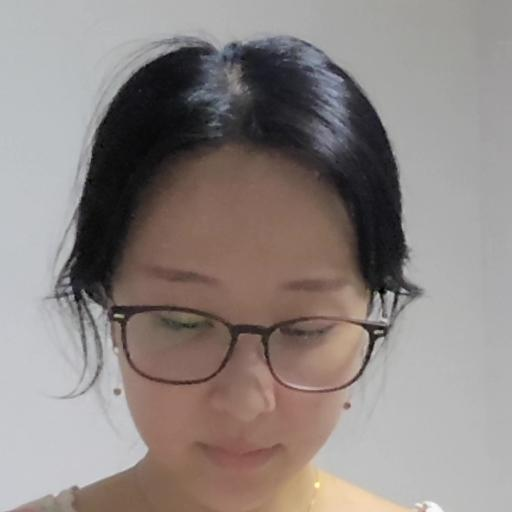no_glasses: (51, 39, 431, 512)
